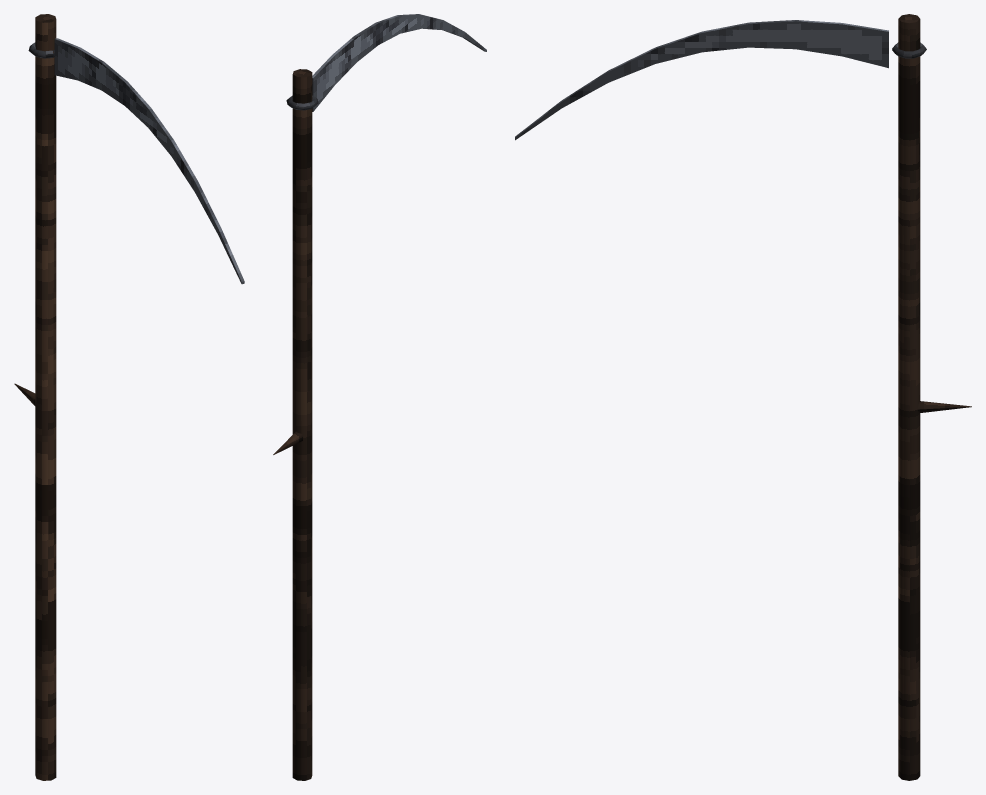
Rendered from scythe.glb.
The picture shows the model from 3 angles, left to right: view 1: azimuth 30°, elevation 25°; view 2: azimuth 150°, elevation 25°; view 3: azimuth 270°, elevation 25°; orthographic projection. The views are drawn at different scales.
Visible parts, largest first — view 1: scythe; view 2: scythe; view 3: scythe.
Part boxes in pixels (x1,y1,x2,y2): scythe: (14,14,244,780); scythe: (273,14,486,780); scythe: (515,14,971,780).
Size of the model in its own units: 0.0495 by 1.23 by 0.672.
Materials: 1 (1 with a texture image).
